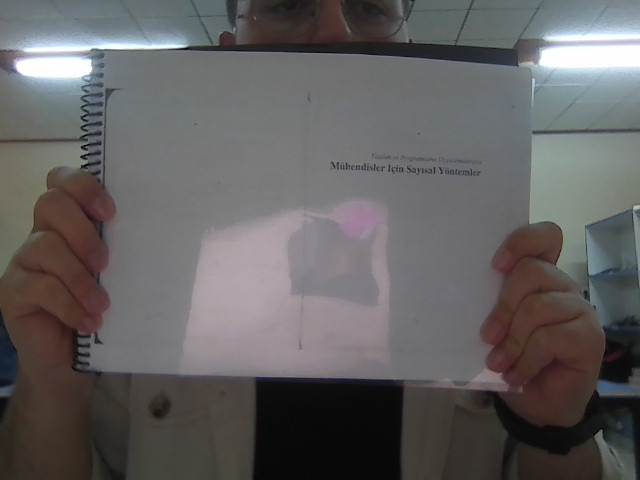DeepFakes: (4, 28, 587, 479)
